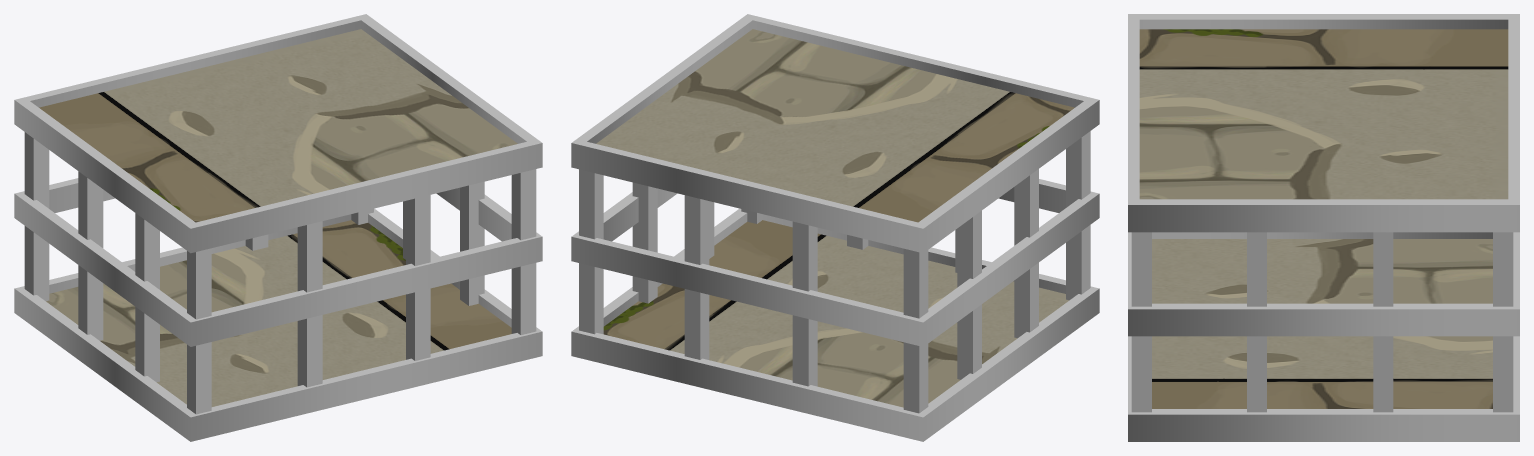
Rendered from small_cage.FBX.
3 renders of one model, left to right at view 1: azimuth 30°, elevation 25°; view 2: azimuth 150°, elevation 25°; view 3: azimuth 270°, elevation 25°, orthographic. The views are drawn at different scales.
Visible parts, largest first — view 1: Small_cage; view 2: Small_cage; view 3: Small_cage.
Part boxes in pixels (box(x1,y1,x2,y2)): Small_cage: box(14, 14, 542, 441); Small_cage: box(571, 14, 1099, 441); Small_cage: box(1128, 14, 1519, 441).
Size of the model in its own units: 0.7931 by 0.4591 by 0.6877.
